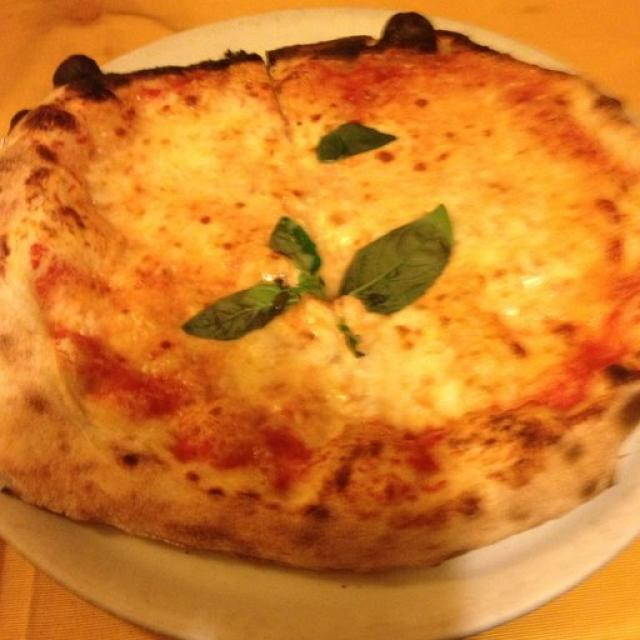Basil: (185, 274, 283, 340), (317, 117, 394, 157)
Pizza: (0, 14, 640, 575)
